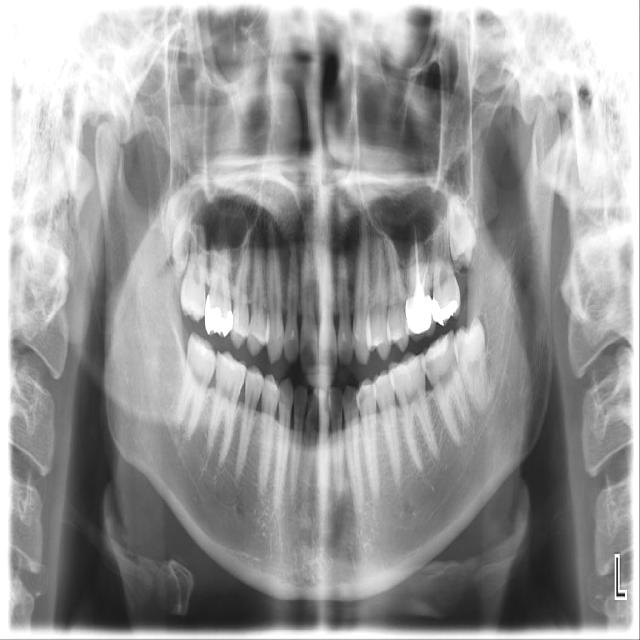Crown: (406, 295, 432, 334)
Filling: (204, 297, 232, 336), (432, 299, 458, 326), (424, 334, 449, 361), (414, 280, 424, 298)
Root Canal Treatment: (414, 223, 420, 281)
impacted tooth: (455, 317, 490, 420), (438, 186, 477, 269), (172, 203, 195, 275)
